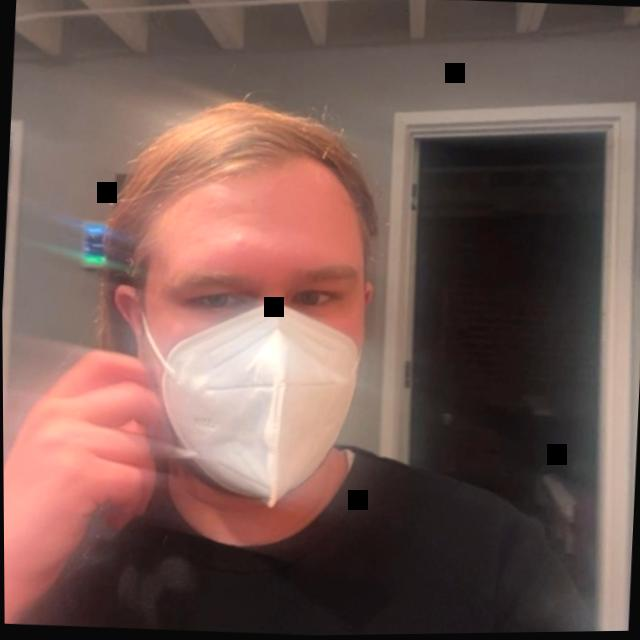Mask: (94, 98, 399, 562)
